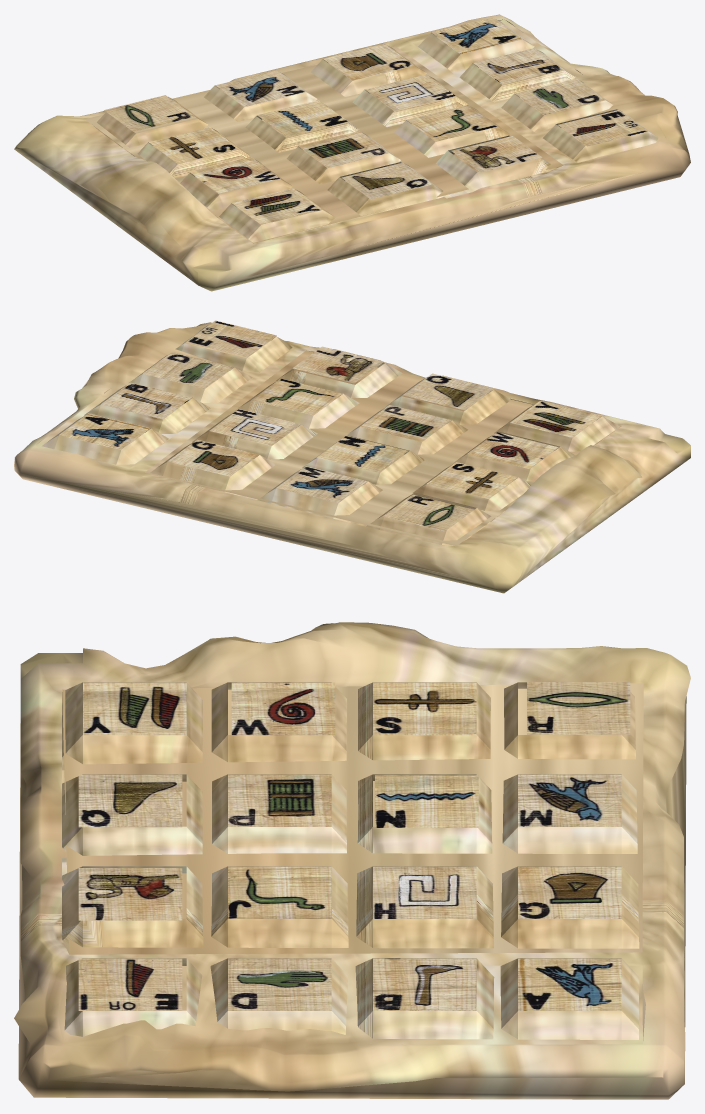
File: legend.fbx
The picture shows the model from 3 angles, top to bottom: view 1: azimuth 30°, elevation 25°; view 2: azimuth 150°, elevation 25°; view 3: azimuth 270°, elevation 25°; orthographic projection. The views are drawn at different scales.
Parts seen in each view (by area): view 1: Legend; view 2: Legend; view 3: Legend.
Boxes of the visible parts, x1,y1,x2,y2 form: Legend: (14,14,690,291); Legend: (14,320,690,593); Legend: (14,622,690,1099).
Size of the model in its own units: 318 by 30.76 by 204.
17 materials, 17 textured.
